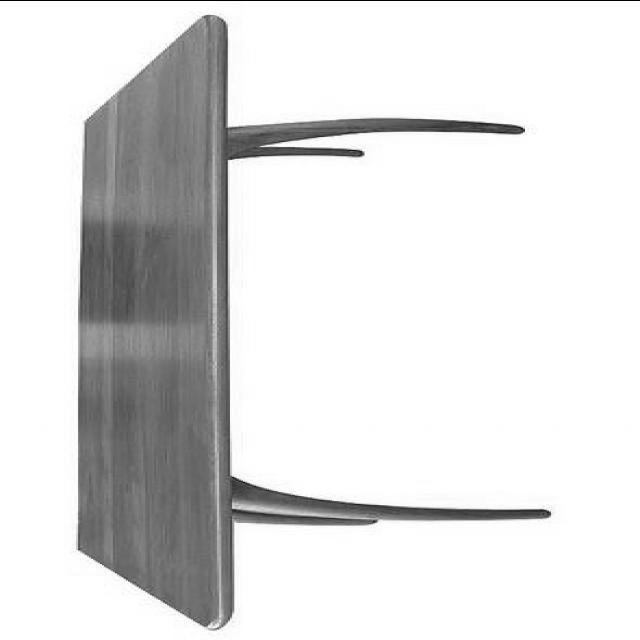table: (80, 14, 548, 626)
